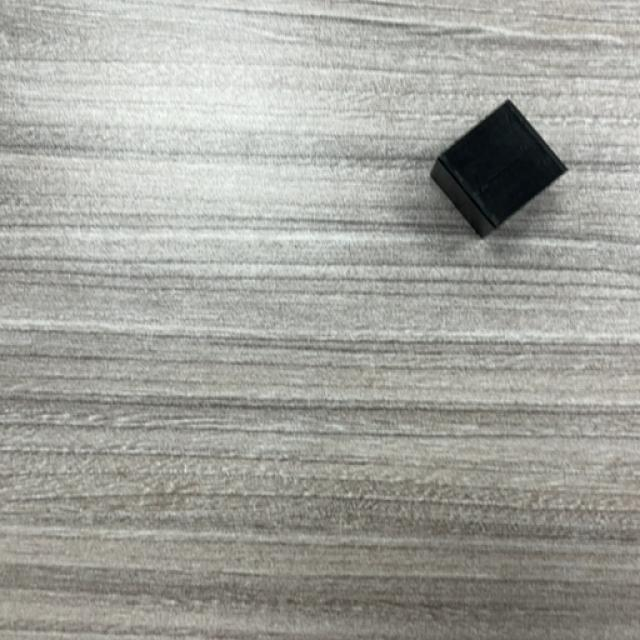Negro: (429, 101, 569, 240)
